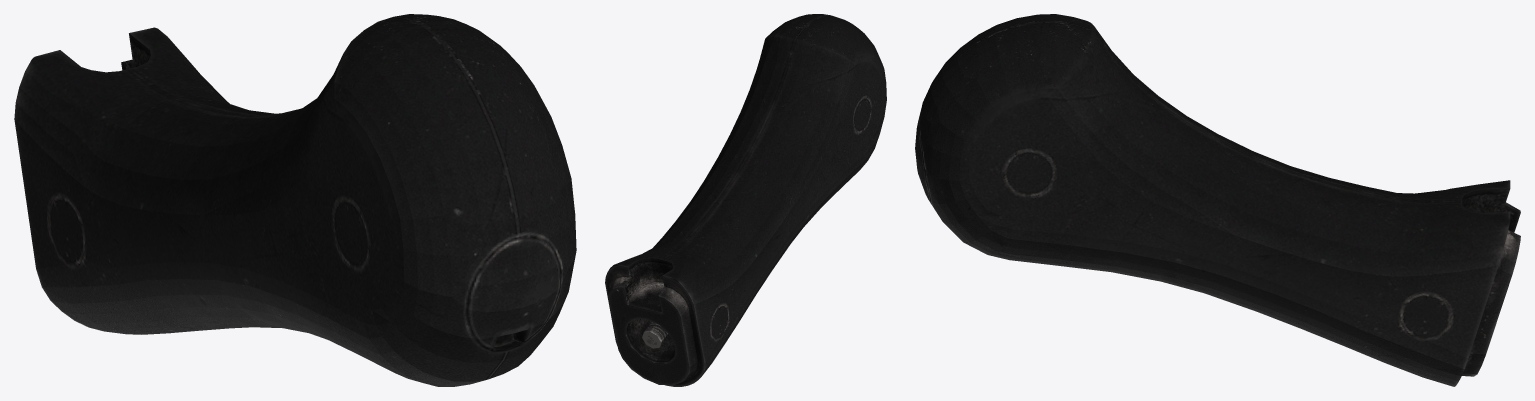
3 renders of one model, left to right at view 1: azimuth 30°, elevation 25°; view 2: azimuth 150°, elevation 25°; view 3: azimuth 270°, elevation 25°, orthographic. The views are drawn at different scales.
Visible parts, largest first — view 1: TW_5a788169c5856700142fdd9e_PZ_Import; view 2: TW_5a788169c5856700142fdd9e_PZ_Import; view 3: TW_5a788169c5856700142fdd9e_PZ_Import.
Part boxes in pixels (x1,y1,x2,y2): TW_5a788169c5856700142fdd9e_PZ_Import: [14, 14, 576, 386]; TW_5a788169c5856700142fdd9e_PZ_Import: [605, 14, 886, 386]; TW_5a788169c5856700142fdd9e_PZ_Import: [915, 14, 1520, 386].
Size of the model in its own units: 0.0204 by 0.0869 by 0.0568.
Materials: 1 (1 with a texture image).
